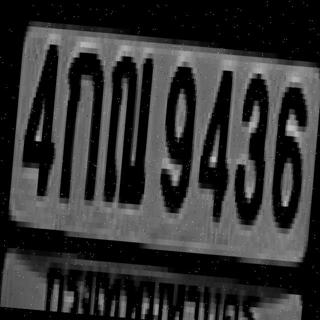A01: (56, 46, 105, 195)
A19: (100, 44, 154, 199)
N03: (230, 66, 271, 220)
N04: (18, 37, 62, 191), (194, 64, 235, 217)
N06: (268, 78, 308, 221)
N09: (156, 57, 197, 206)
